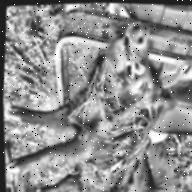boar: (2, 16, 192, 192)
